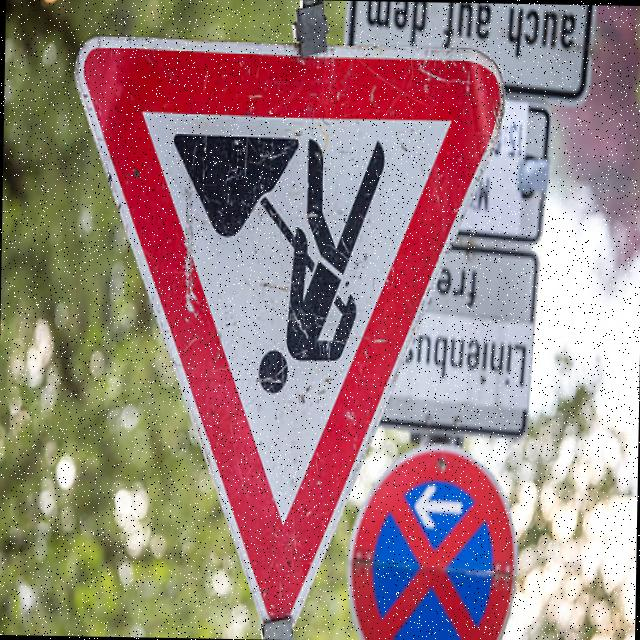road_work: (72, 31, 503, 640)
